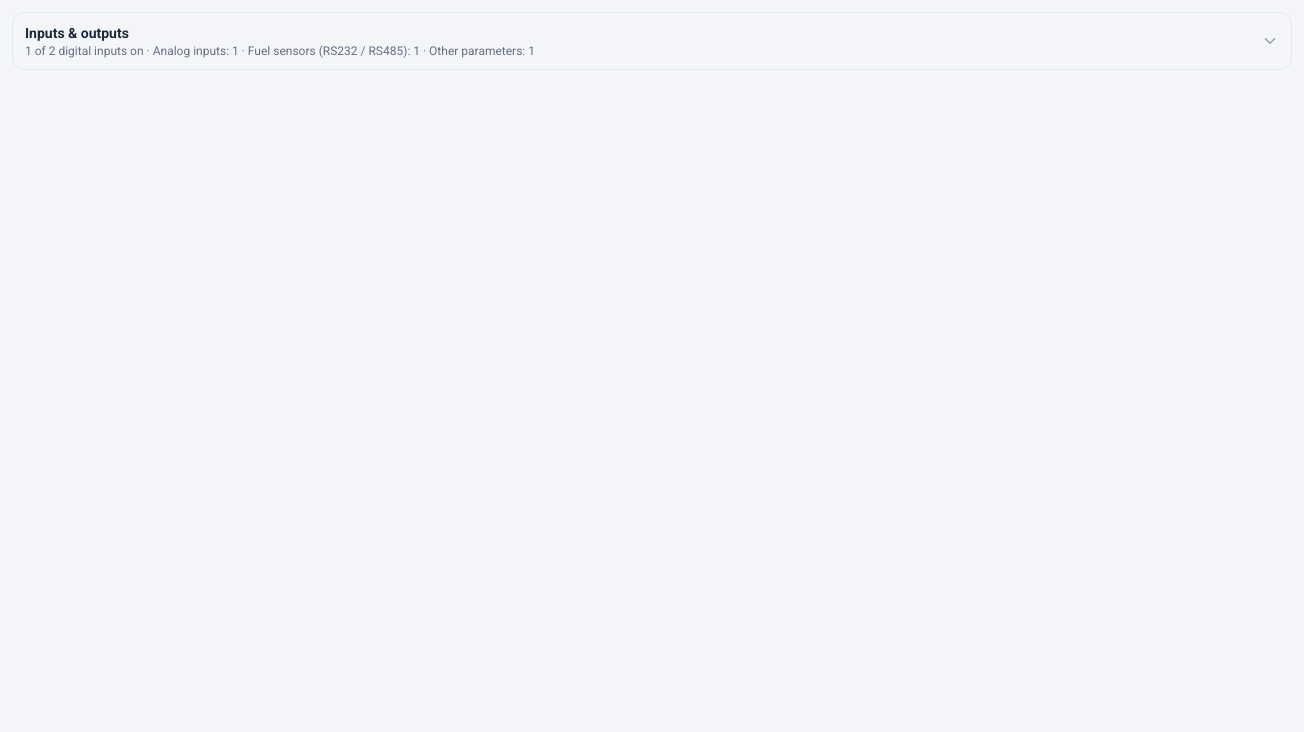
Test: FmbIoPanelView › opens to named rows with on/off and a readable value
Click the button "Inputs & outputs".
click(77, 33)  # box 13,13 -> 1291,69
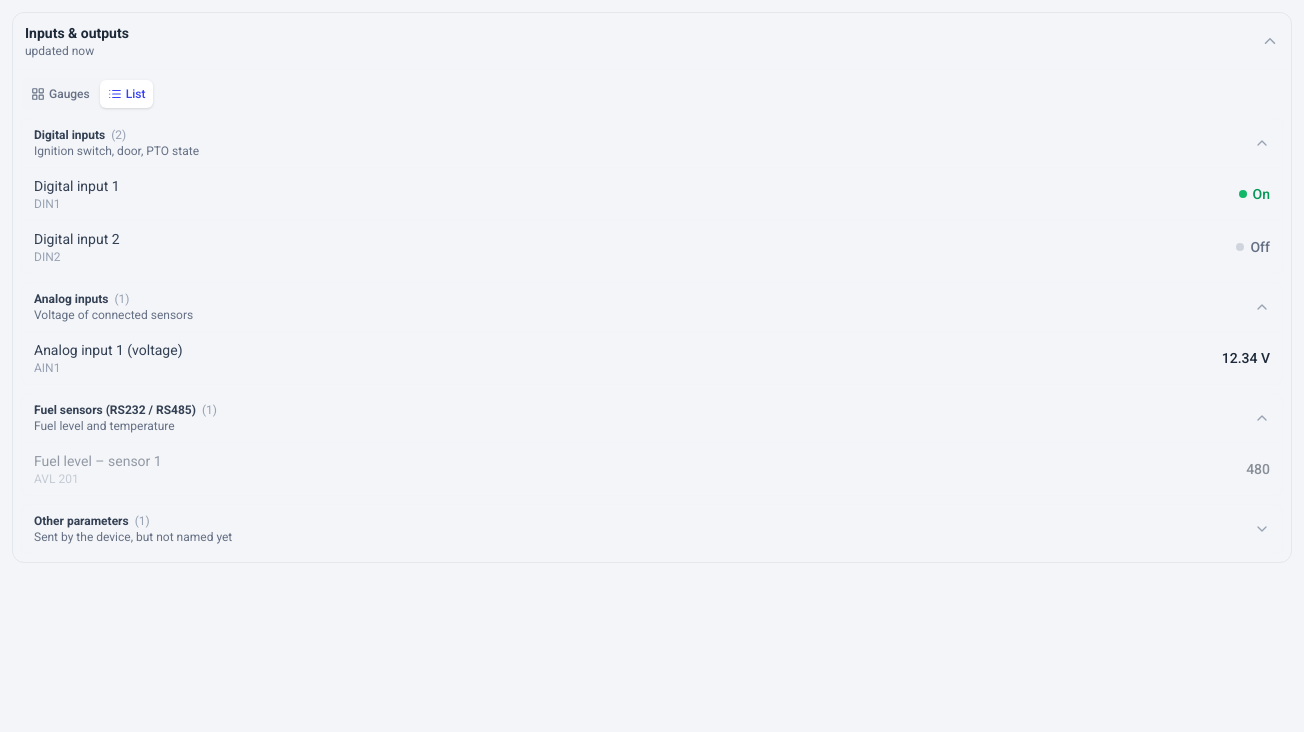
Expected: the button "Inputs & outputs updated now" is expanded, 13,13 -> 1291,69
Expected: the text "Digital input 1" is shown, 34,176 -> 120,196
Expected: the text "On" is shown, 1238,184 -> 1270,204
